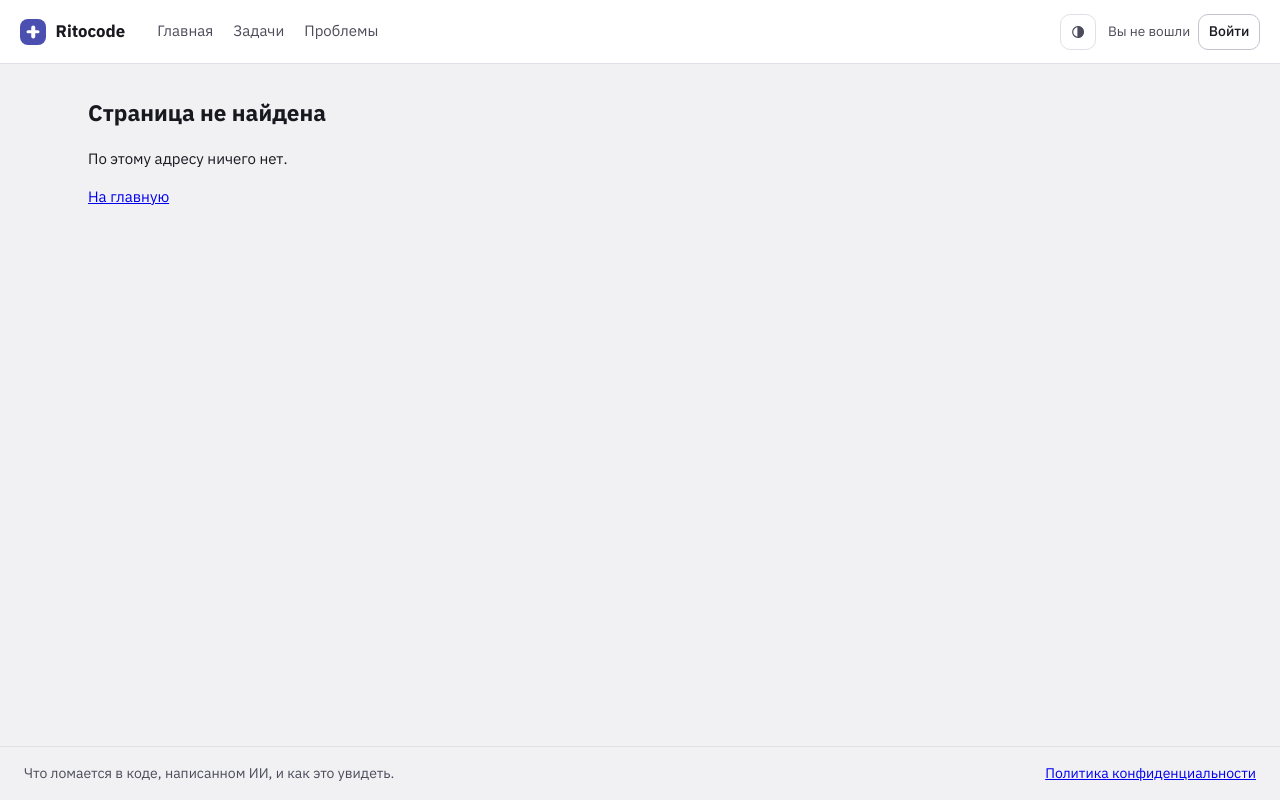
it: signing in and out from the header › says what signing in hands over, linking the privacy policy, and closes once it is followed
This screenshot has width=1280, height=800.
Click the heading "Войти".
click(1229, 32)  # box [1198,14,1260,50]
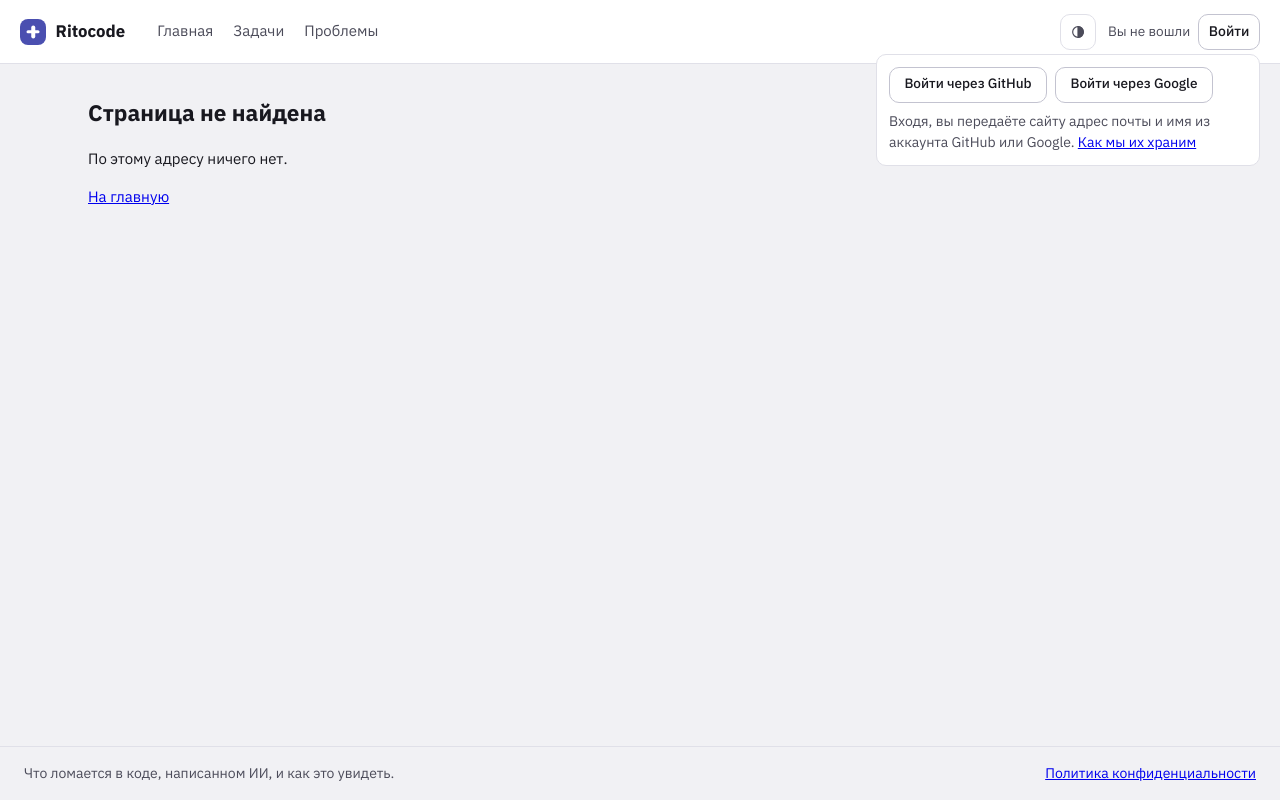
Expected: the text "Входя, вы передаёте сайту адрес почты и имя из аккаунта GitHub или Google." is shown, [889,112,1210,150]
Click the link "Как мы их храним".
click(1137, 142)  # box [1078,132,1196,150]
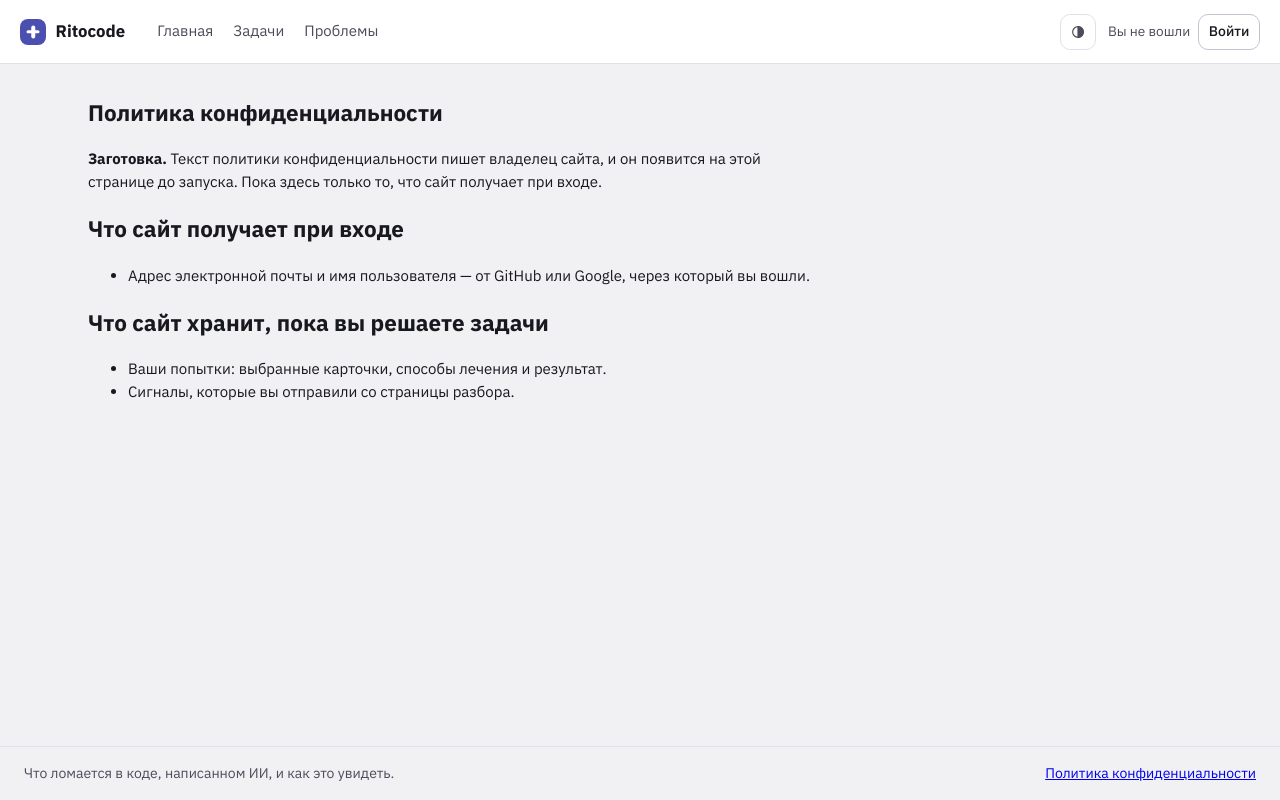
Expected: the heading "Политика конфиденциальности" is shown, [88,98,443,127]
